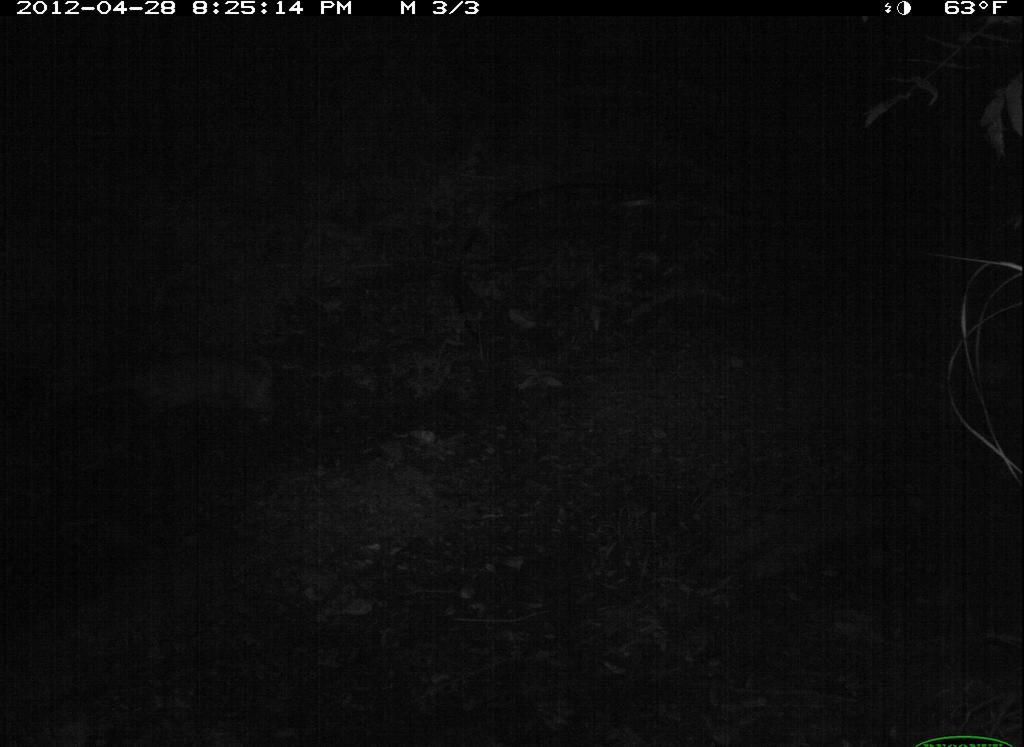opossum: (105, 344, 285, 440)
